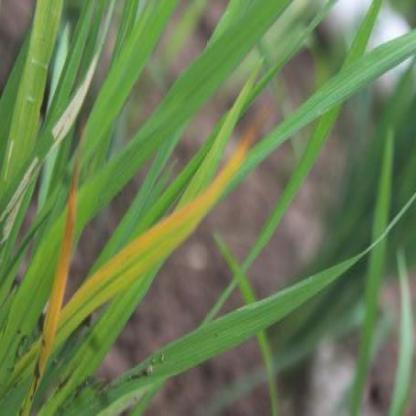Tungro: (44, 112, 262, 364), (11, 137, 78, 416)
